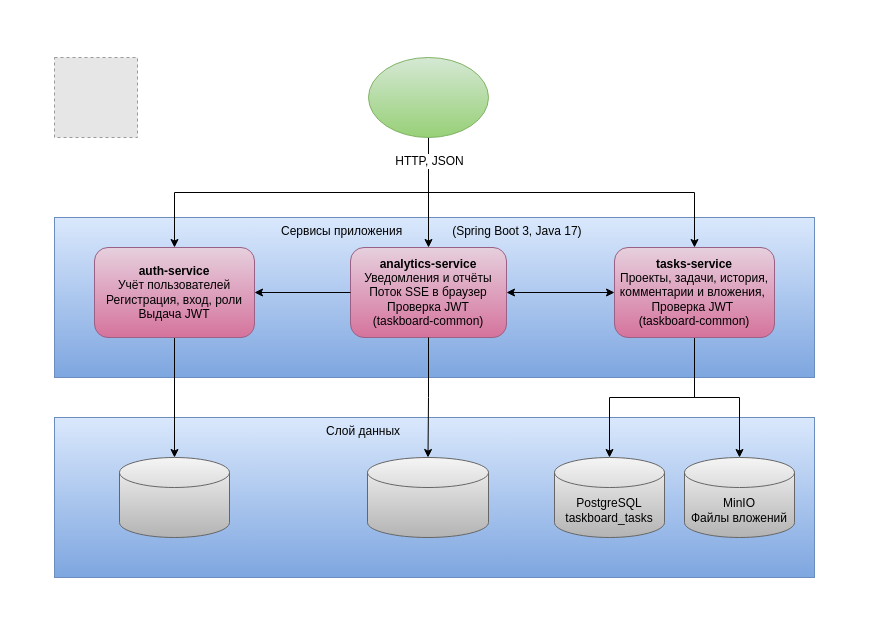
Some shapes in this 871 by 634 pixel diagram are drawn without their labels. Grey dashed boxes stand in for pictures. Here are the shapes that lost their labels. From the top down, the box of each, then its label:
(368, 56, 488, 138): Клиент Веб-интерфейс (React, Vite)
(118, 456, 230, 538): PostgreSQL taskboard_auth
(366, 456, 488, 538): PostgreSQL taskboard_ analytics
